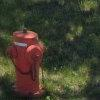a fire hydrant: (9, 28, 46, 96)
